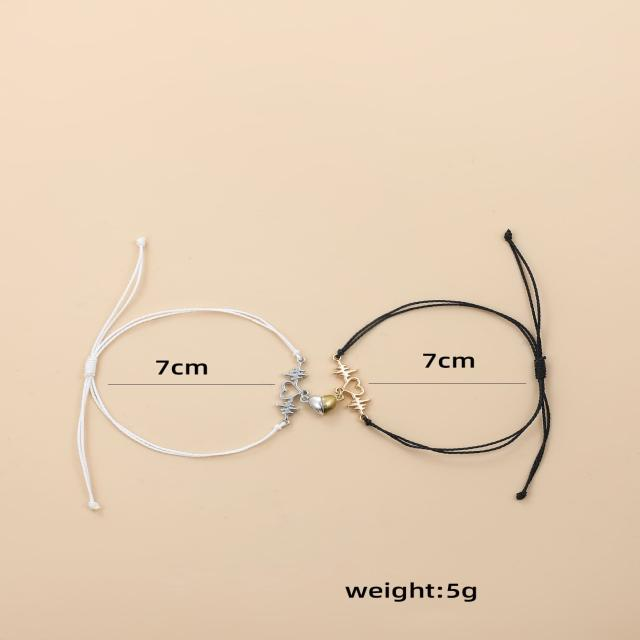bracelet: (322, 194, 640, 537), (42, 195, 321, 515)
